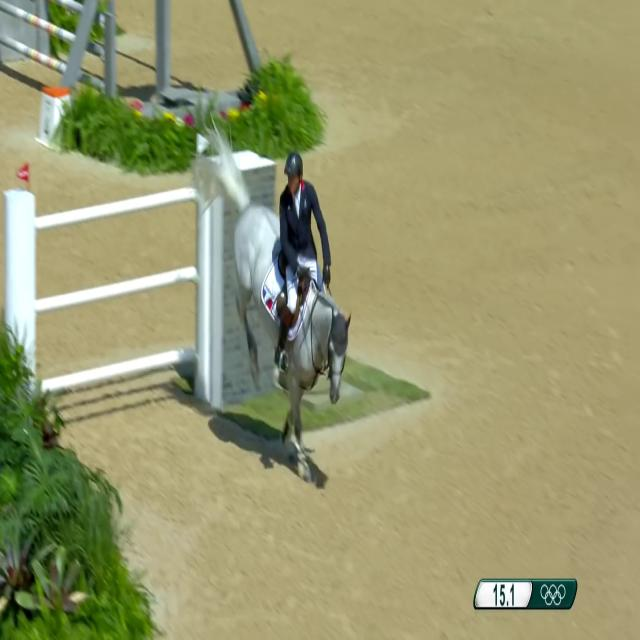Horse Jumping: (194, 121, 364, 507)
Horse Rider: (266, 123, 334, 337)
